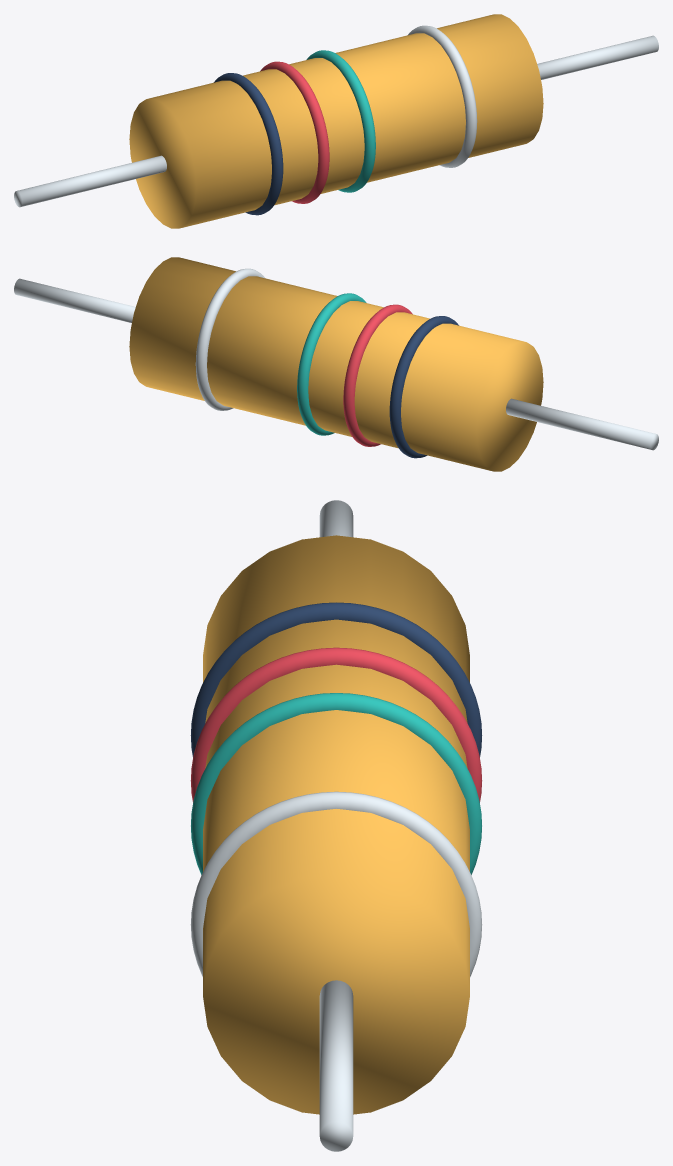
The model's file is resistor-quality.glb.
The picture shows the model from 3 angles, top to bottom: view 1: azimuth 30°, elevation 25°; view 2: azimuth 150°, elevation 25°; view 3: azimuth 270°, elevation 25°; orthographic projection. The views are drawn at different scales.
Visible parts, largest first — view 1: Body; view 2: Body; view 3: Body.
Boxes of the visible parts, bbox=[...] form: Body: bbox=[14, 14, 658, 228]; Body: bbox=[14, 257, 658, 471]; Body: bbox=[190, 500, 482, 1151].
Size of the model in its own units: 2.2 by 0.436 by 0.436.
